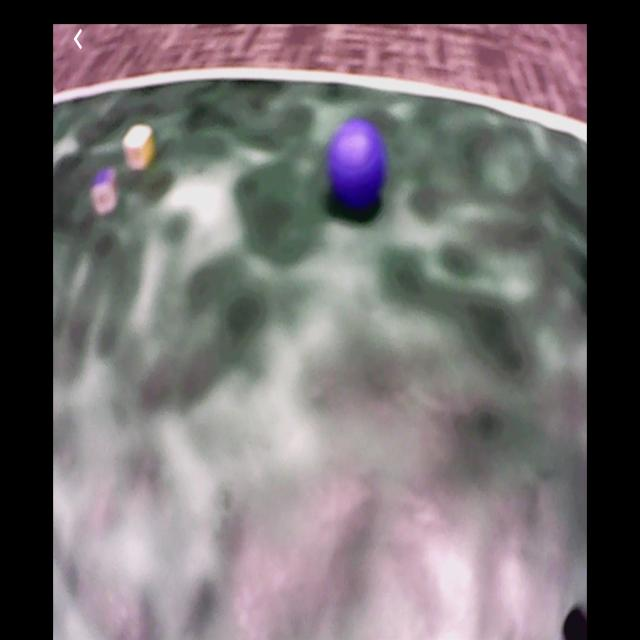ball: (331, 120, 386, 215)
